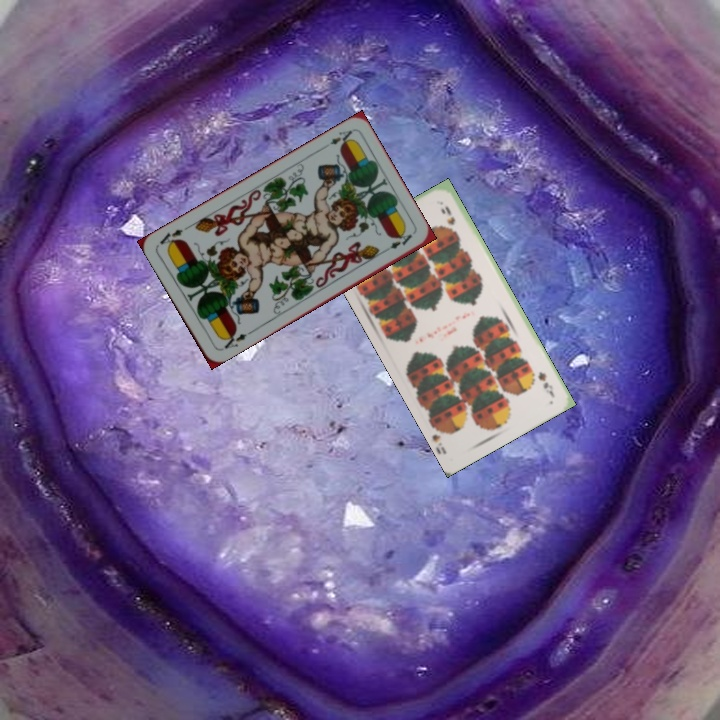EA: (318, 126, 355, 152), (217, 327, 250, 353)
S9: (534, 368, 557, 399)
